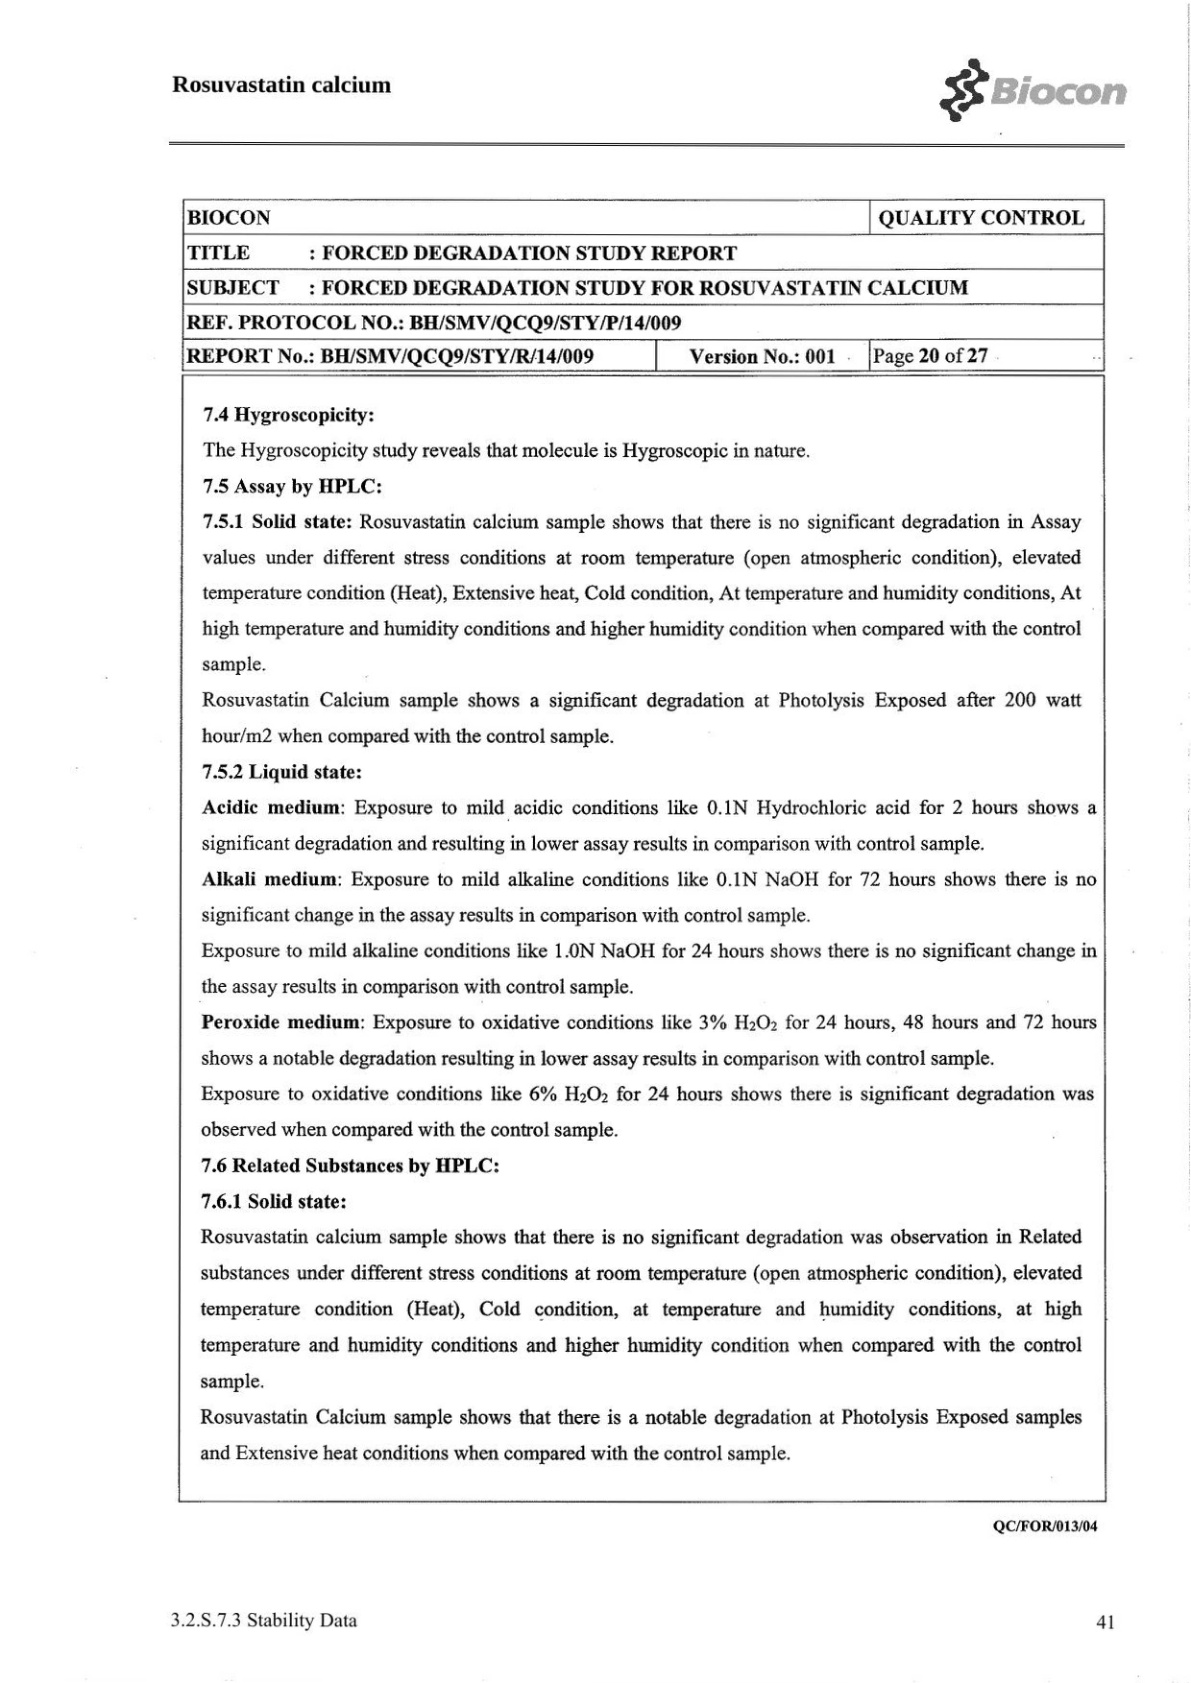merged_cells: (180, 197, 1107, 374)
